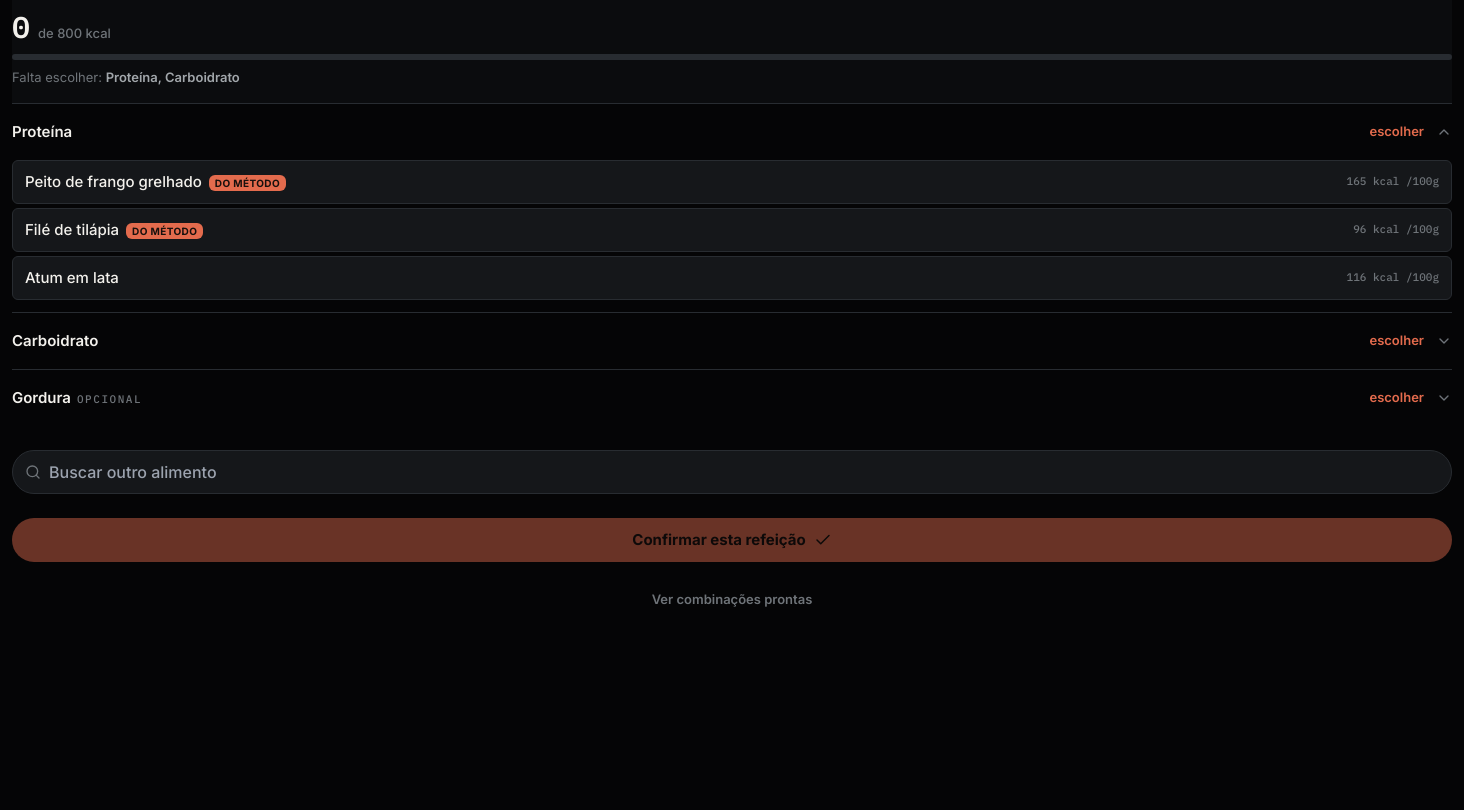
Test: a grama mostrada e a que o servidor calculou
Click the button with test id "opcao-chicken-breast".
click(113, 182)  # box [12, 160, 1452, 204]
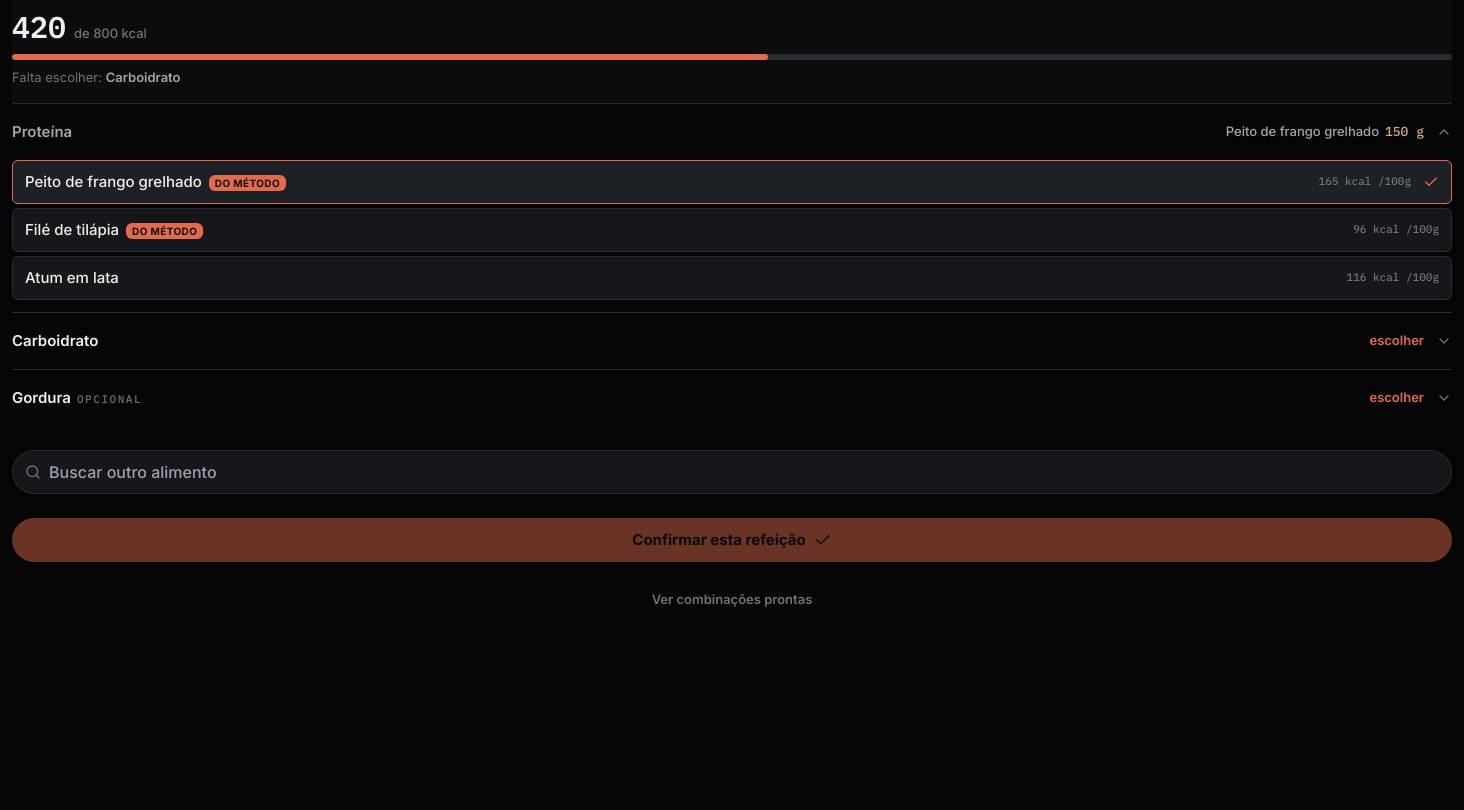
Check: the text with test id "montar-kcal" reads "420", box [12, 7, 66, 46]
Check: the text "150 g" is shown, box [1385, 124, 1424, 141]
